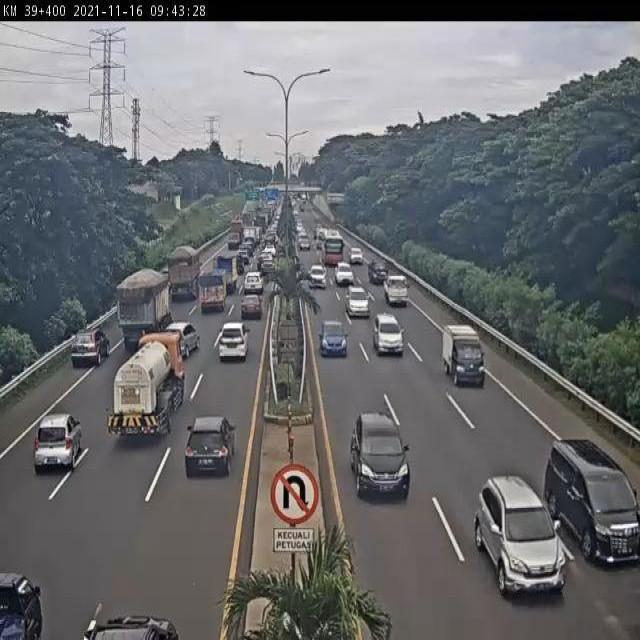big bus: (324, 236, 343, 261)
car: (481, 473, 558, 598), (561, 445, 629, 555), (356, 416, 409, 493), (31, 405, 77, 471), (193, 419, 230, 476), (221, 318, 250, 370), (73, 326, 106, 370), (168, 316, 197, 356), (375, 316, 408, 351), (328, 321, 349, 367), (347, 284, 369, 319), (386, 273, 410, 304), (240, 293, 261, 316), (309, 264, 327, 289), (369, 261, 387, 283), (246, 270, 263, 290), (336, 264, 352, 284), (352, 250, 363, 266)
small truck: (442, 326, 491, 386), (201, 268, 228, 313), (217, 253, 238, 287)
truck-m-: (105, 333, 191, 448), (118, 266, 177, 351), (170, 250, 201, 302)
